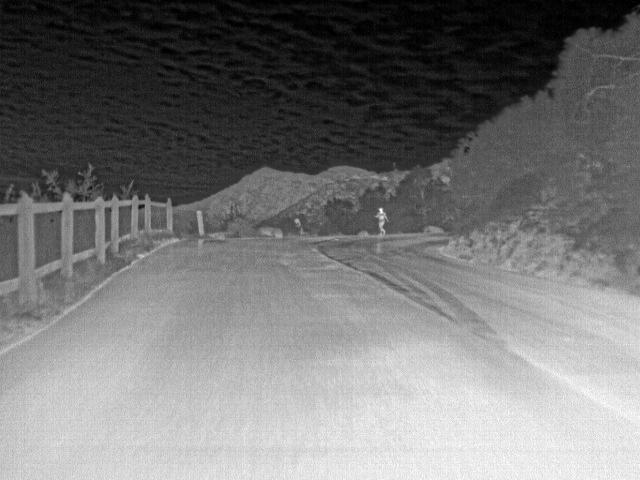person: (373, 206, 389, 236)
